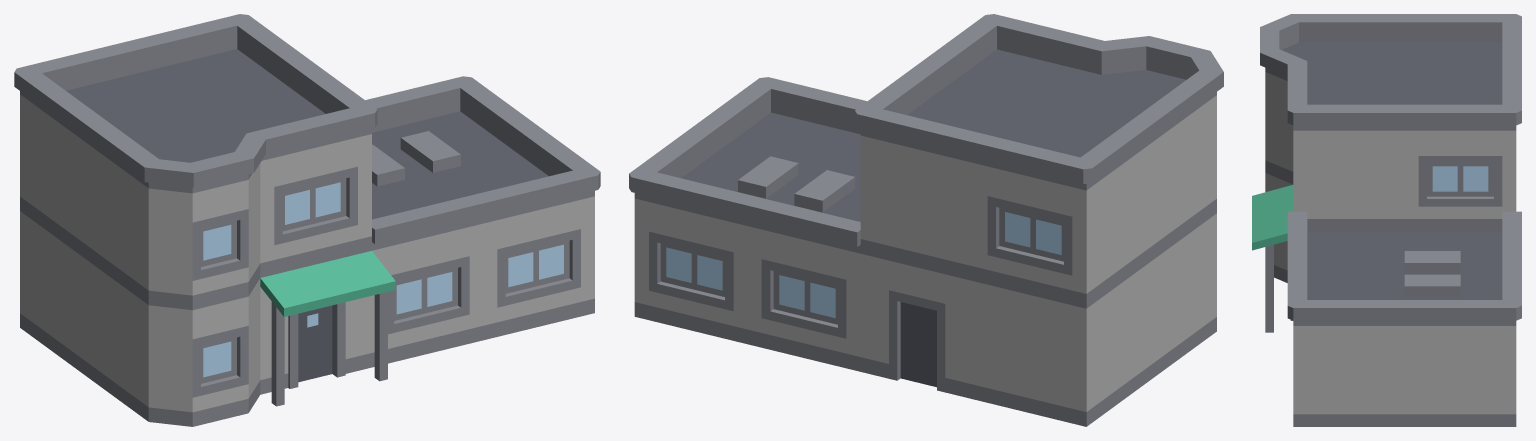
The model's file is Small Building E.glb.
3 renders of one model, left to right at view 1: azimuth 30°, elevation 25°; view 2: azimuth 150°, elevation 25°; view 3: azimuth 270°, elevation 25°, orthographic. The views are drawn at different scales.
Visible parts, largest first — view 1: small_buildingE; view 2: small_buildingE; view 3: small_buildingE.
Part boxes in pixels (left/top/right/bottom): small_buildingE: left=14, top=14, right=600, bottom=426; small_buildingE: left=629, top=14, right=1223, bottom=426; small_buildingE: left=1252, top=14, right=1521, bottom=426.
Size of the model in its own units: 1.64 by 0.88 by 0.9679.
